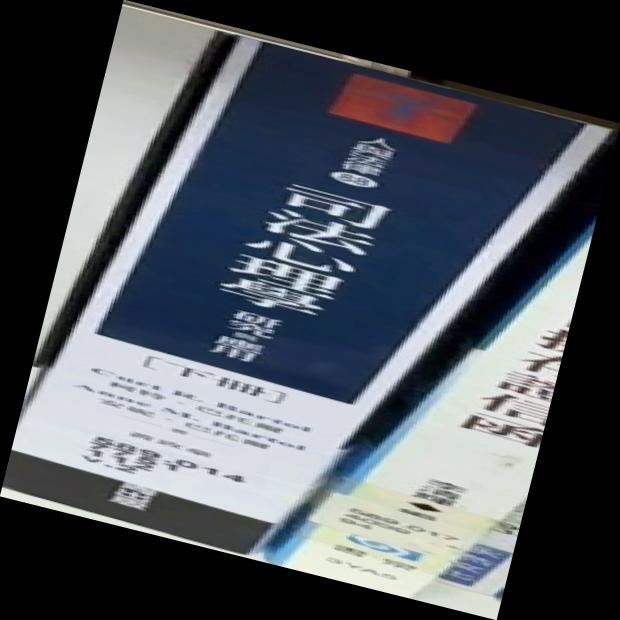book: (1, 1, 620, 620)
